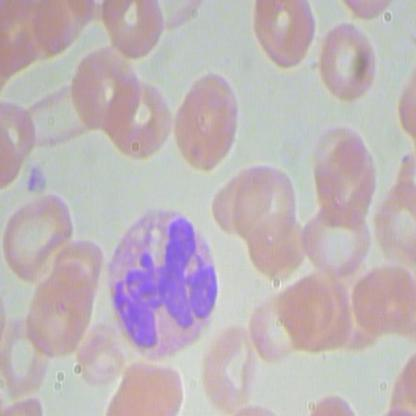RBC: (168, 68, 249, 172), (1, 191, 84, 287), (300, 192, 376, 283), (66, 41, 142, 131), (226, 162, 302, 252), (313, 21, 385, 107), (200, 323, 261, 415), (248, 1, 317, 75), (103, 359, 189, 414), (1, 309, 55, 393), (100, 1, 166, 59)
WBC: (97, 202, 230, 367)
